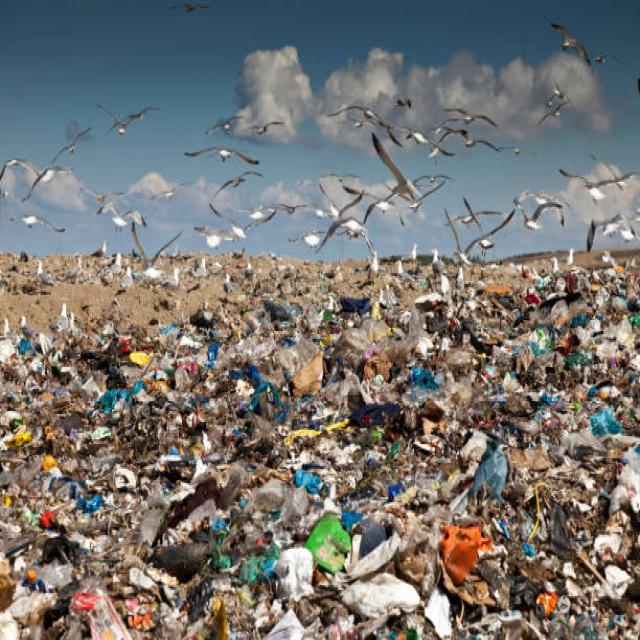trash: (6, 256, 617, 620)
